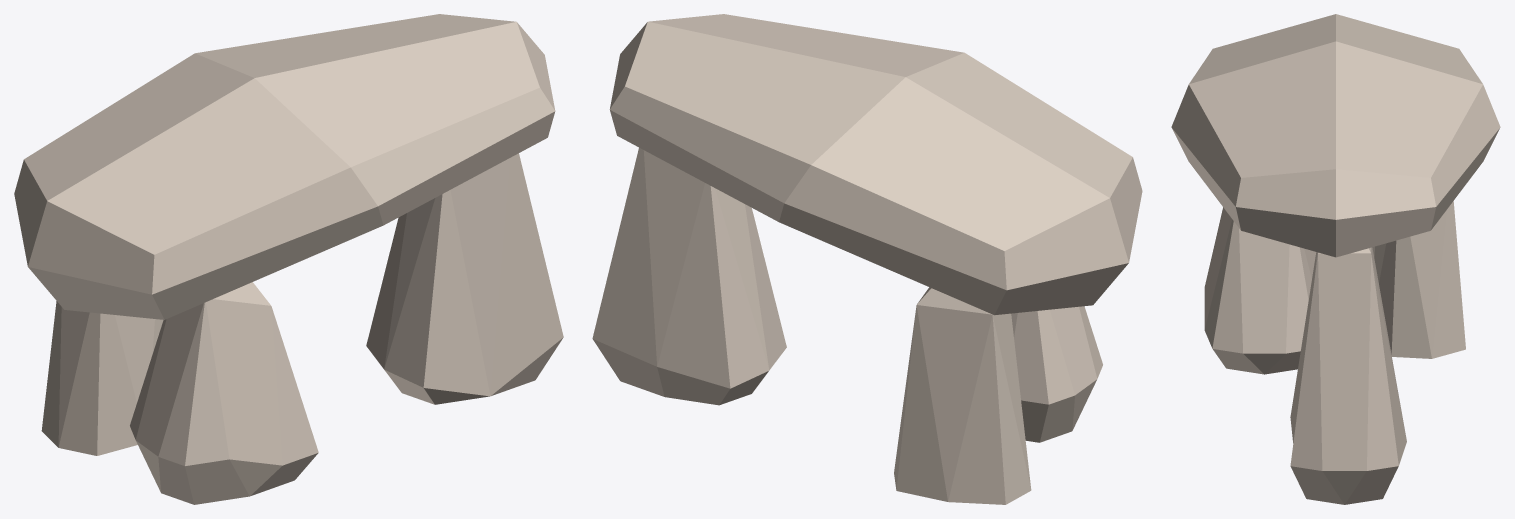
Rendered from dolmen_01.obj.
The picture shows the model from 3 angles, left to right: view 1: azimuth 30°, elevation 25°; view 2: azimuth 150°, elevation 25°; view 3: azimuth 270°, elevation 25°; orthographic projection. The views are drawn at different scales.
Visible parts, largest first — view 1: Dolmen_01; view 2: Dolmen_01; view 3: Dolmen_01.
Boxes of the visible parts, box(x1,y1,x2,y2) form: Dolmen_01: box(14, 14, 563, 504); Dolmen_01: box(592, 14, 1142, 504); Dolmen_01: box(1171, 14, 1500, 504).
Bounding box in the file's own units: 36.63 × 23.81 × 21.17.
